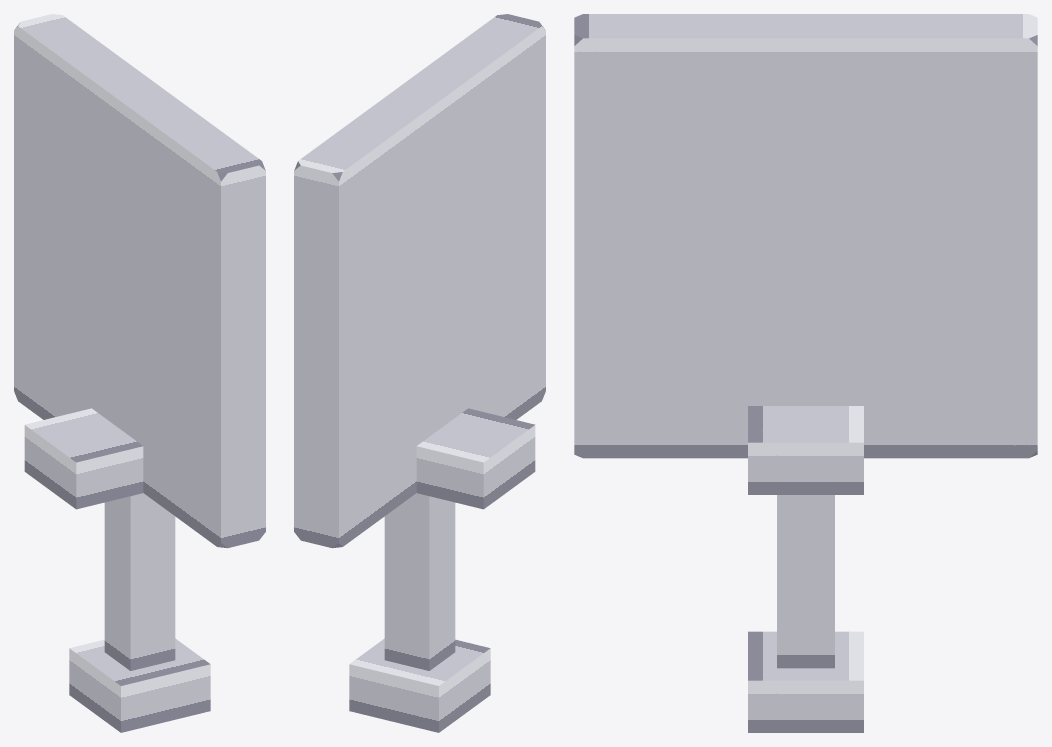
Rendered from sword.glb.
3 renders of one model, left to right at view 1: azimuth 30°, elevation 25°; view 2: azimuth 150°, elevation 25°; view 3: azimuth 270°, elevation 25°, orthographic. The views are drawn at different scales.
Visible parts, largest first — view 1: sword; view 2: sword; view 3: sword.
Boxes of the visible parts, x1,y1,x2,y2 form: sword: (14, 14, 265, 732); sword: (294, 14, 545, 732); sword: (574, 14, 1037, 732).
Size of the model in its own units: 8 by 26 by 16.
1 material, 1 textured.
